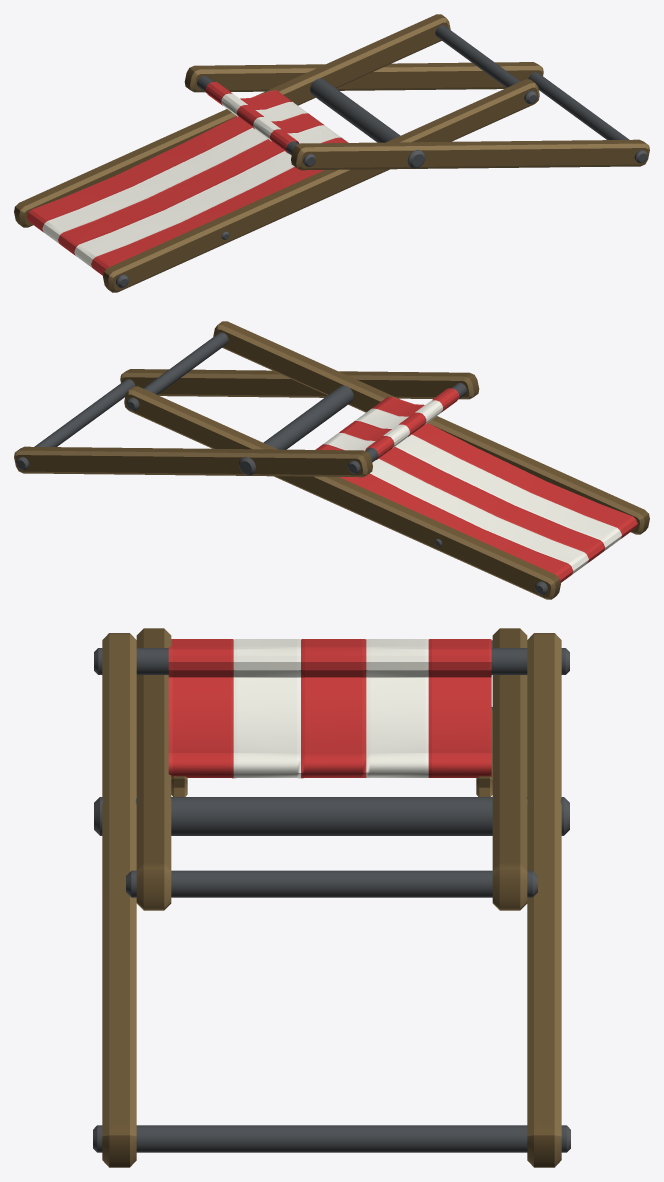
The model's file is foldedBeachChair.fbx.
3 views of the same model, one above another, from view 1: azimuth 30°, elevation 25°; view 2: azimuth 150°, elevation 25°; view 3: azimuth 270°, elevation 25° (orthographic). The views are drawn at different scales.
Parts seen in each view (by area): view 1: foldedChair; view 2: foldedChair; view 3: foldedChair.
Boxes of the visible parts, box(x1,y1,x2,y2) form: foldedChair: box(14, 14, 649, 292); foldedChair: box(14, 321, 649, 599); foldedChair: box(93, 628, 570, 1167).
Size of the model in its own units: 15.37 by 2.99 by 5.96.
